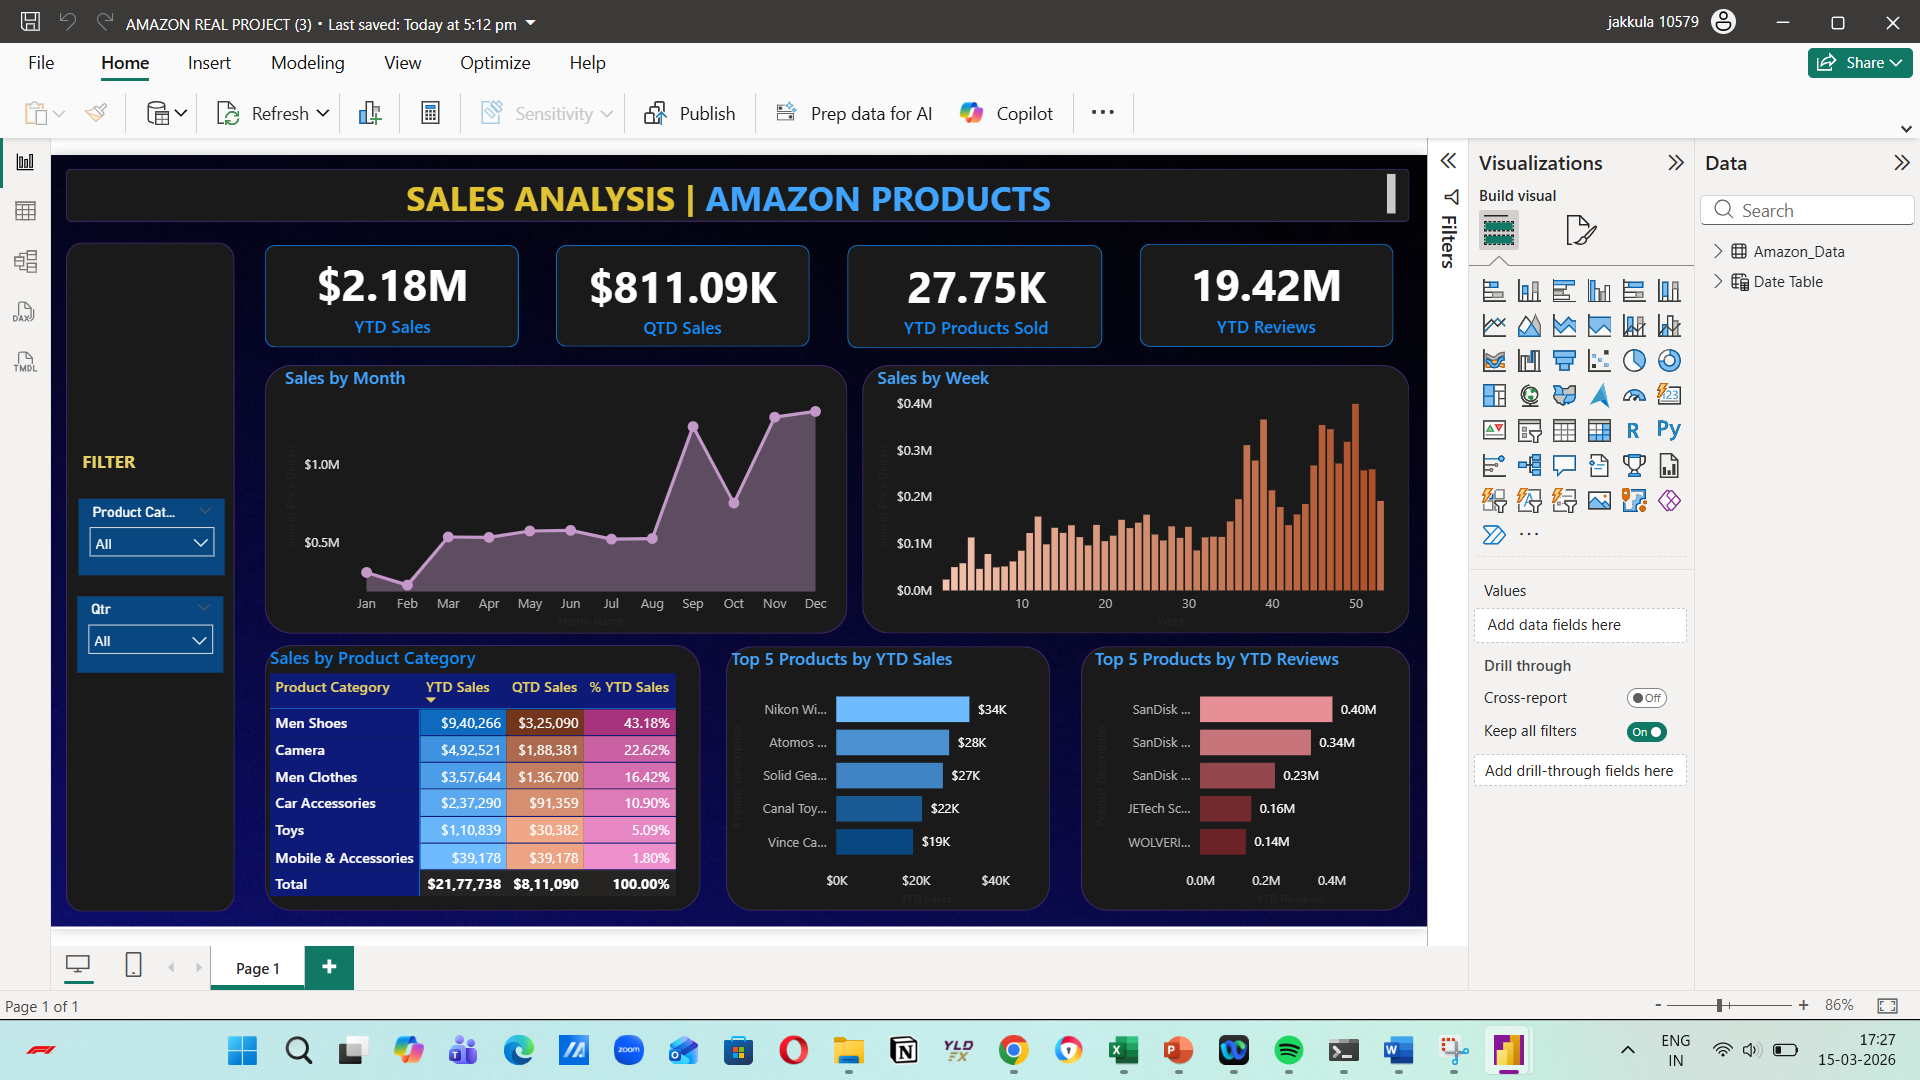

Layout of this report page (visuals, bound fields, positions):
{"tool":"powerbi","page":{"name":"Page 1","canvas":[1280,720],"ordinal":0},"visuals":[{"type":"shape","box":[14.5,80.8,156.8,622.5],"z":0},{"type":"shape","box":[14.5,13.3,1249.9,49.5],"z":1000},{"type":"shape","box":[199,83.6,236.5,95.3],"z":2000},{"type":"card","fields":{"Values":["Amazon_Data.YTD Sales"]},"box":[199.4,83.7,236,94.7],"z":3000},{"type":"shape","box":[470.2,83.7,236,94.7],"z":4000},{"type":"textbox","box":[14.5,13.3,1241.4,49.5],"z":5000},{"type":"card","fields":{"Values":["Amazon_Data.QTD Sales"]},"box":[469.8,85.1,236,94.7],"z":6000},{"type":"shape","box":[1013.1,82.3,236,96.1],"z":7000},{"type":"shape","box":[199,194.9,542,250],"z":8000},{"type":"shape","box":[741,83.7,237.4,96.1],"z":9000},{"type":"card","fields":{"Values":["Amazon_Data.YTD Products Sold"]},"box":[742.8,85.1,236,94.7],"z":10000},{"type":"card","fields":{"Values":["Amazon_Data.YTD Reviews"]},"box":[1013.1,83.7,236,94.7],"z":11000},{"type":"areaChart","title":"Sales by Month","fields":{"Category":["Date Table.Month Name"],"Y":["Sum(Amazon_Data.Price(Dollar))"]},"box":[212.3,195.4,518.8,249.7],"z":12000},{"type":"shape","box":[755.2,195.4,509.1,249.7],"z":13000},{"type":"columnChart","title":"Sales by Week","fields":{"Category":["Date Table.Week"],"Y":["Sum(Amazon_Data.Price(Dollar))"]},"box":[763.7,195.4,500.7,249.7],"z":14000},{"type":"shape","box":[199.1,456,405.4,247.3],"z":15000},{"type":"pivotTable","title":"Sales by Product Category","fields":{"Rows":["Amazon_Data.Product Category"],"Values":["Amazon_Data.YTD Sales1","Amazon_Data.QTD Sales1","Amazon_Data.YTD Sales"]},"box":[199.1,456,389.7,247.3],"z":16000},{"type":"shape","box":[627.3,457.2,301.6,246.1],"z":17000},{"type":"shape","box":[957.9,457.2,306.4,246.1],"z":18000},{"type":"clusteredBarChart","title":"Top 5 Products by YTD Sales","fields":{"Category":["Amazon_Data.Product Description"],"Y":["Amazon_Data.YTD Sales"]},"box":[627.3,457.2,289.5,246.1],"z":19000},{"type":"clusteredBarChart","title":"Top 5 Products by YTD Reviews ","fields":{"Category":["Amazon_Data.Product Description"],"Y":["Amazon_Data.YTD Reviews"]},"box":[966.4,457.2,289.5,246.1],"z":20000},{"type":"slicer","fields":{"Values":["Date Table.Qtr"]},"box":[24.1,410.2,136.3,71.2],"z":21000},{"type":"slicer","fields":{"Values":["Amazon_Data.Product Category"]},"box":[25.3,319.7,136.3,71.2],"z":22000},{"type":"textbox","box":[24.1,269,86.9,32.6],"z":23000}]}

Visuals, with their boxes on the page's 1280x720 design canvas (x1, y1, x2, y2). These are canvas units, not pixel positions in the 1920x1080 screenshot, which may show the page scaled, cropped or inside an application window:
shape: bbox=(14, 81, 171, 703)
shape: bbox=(14, 13, 1264, 63)
shape: bbox=(199, 84, 436, 179)
card - Amazon_Data.YTD Sales: bbox=(199, 84, 435, 178)
shape: bbox=(470, 84, 706, 178)
textbox: bbox=(14, 13, 1256, 63)
card - Amazon_Data.QTD Sales: bbox=(470, 85, 706, 180)
shape: bbox=(1013, 82, 1249, 178)
shape: bbox=(199, 195, 741, 445)
shape: bbox=(741, 84, 978, 180)
card - Amazon_Data.YTD Products Sold: bbox=(743, 85, 979, 180)
card - Amazon_Data.YTD Reviews: bbox=(1013, 84, 1249, 178)
"Sales by Month" areaChart: bbox=(212, 195, 731, 445)
shape: bbox=(755, 195, 1264, 445)
"Sales by Week" columnChart: bbox=(764, 195, 1264, 445)
shape: bbox=(199, 456, 604, 703)
"Sales by Product Category" pivotTable: bbox=(199, 456, 589, 703)
shape: bbox=(627, 457, 929, 703)
shape: bbox=(958, 457, 1264, 703)
"Top 5 Products by YTD Sales" clusteredBarChart: bbox=(627, 457, 917, 703)
"Top 5 Products by YTD Reviews " clusteredBarChart: bbox=(966, 457, 1256, 703)
slicer - Date Table.Qtr: bbox=(24, 410, 160, 481)
slicer - Amazon_Data.Product Category: bbox=(25, 320, 162, 391)
textbox: bbox=(24, 269, 111, 302)
